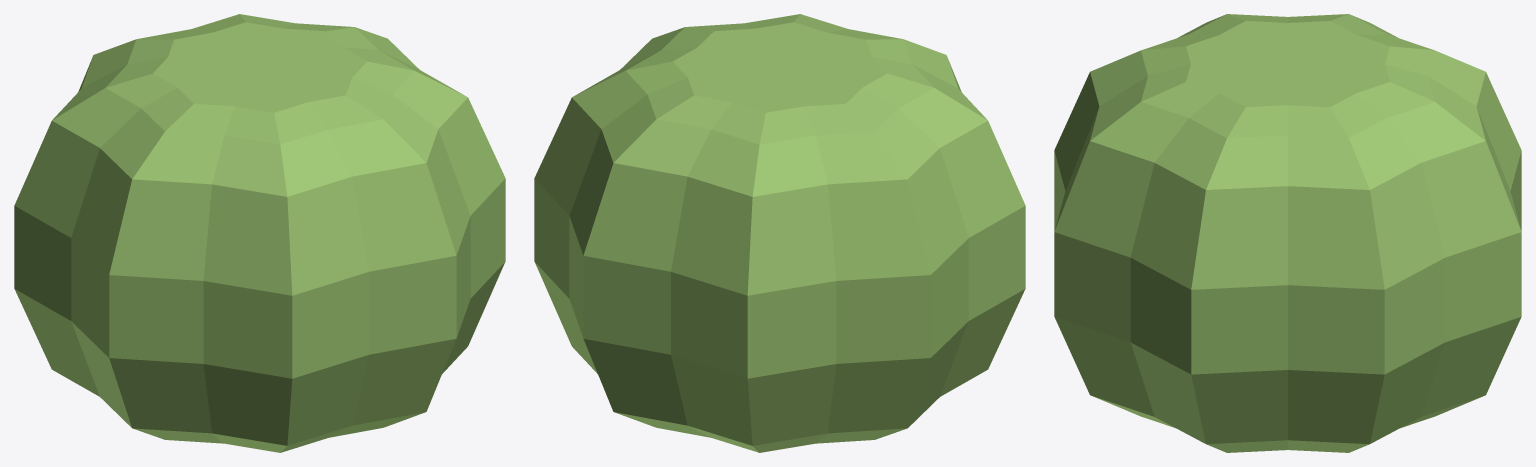
File: Prop_Bush_1.gltf
The picture shows the model from 3 angles, left to right: view 1: azimuth 30°, elevation 25°; view 2: azimuth 150°, elevation 25°; view 3: azimuth 270°, elevation 25°; orthographic projection. The views are drawn at different scales.
Parts seen in each view (by area): view 1: object1; view 2: object1; view 3: object1.
Boxes of the visible parts, x1=… form: object1: x1=14, y1=14, x2=505, y2=452; object1: x1=534, y1=14, x2=1025, y2=452; object1: x1=1054, y1=14, x2=1521, y2=452.
Size of the model in its own units: 0.9372 by 0.75 by 0.9372.
